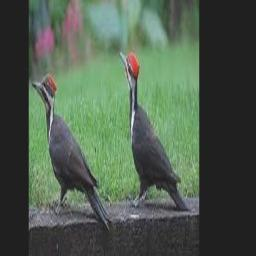Woodpecker: (31, 72, 111, 229), (119, 50, 189, 209)
